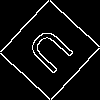U: (24, 25, 83, 83)
